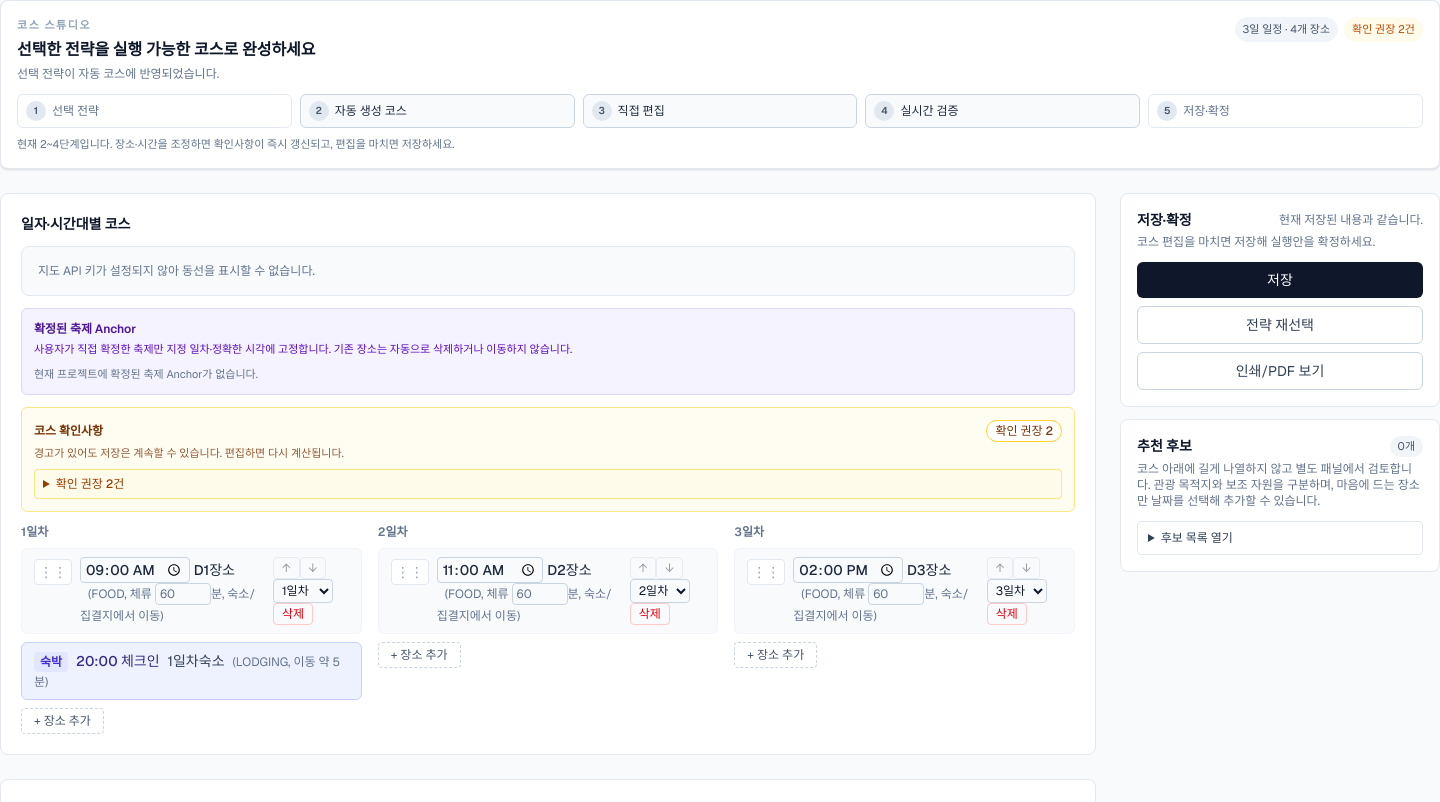
PlanEditor 저장 후 날짜 select 값 유지(회귀) › 저장 후에도 시간 입력값과 lodging 표시가 그대로 유지된다(회귀가 select에만 국한되는지 확인)
The width and height of the screenshot is (1440, 802).
Click the button "저장": (1280, 280) [1137, 262, 1423, 298]
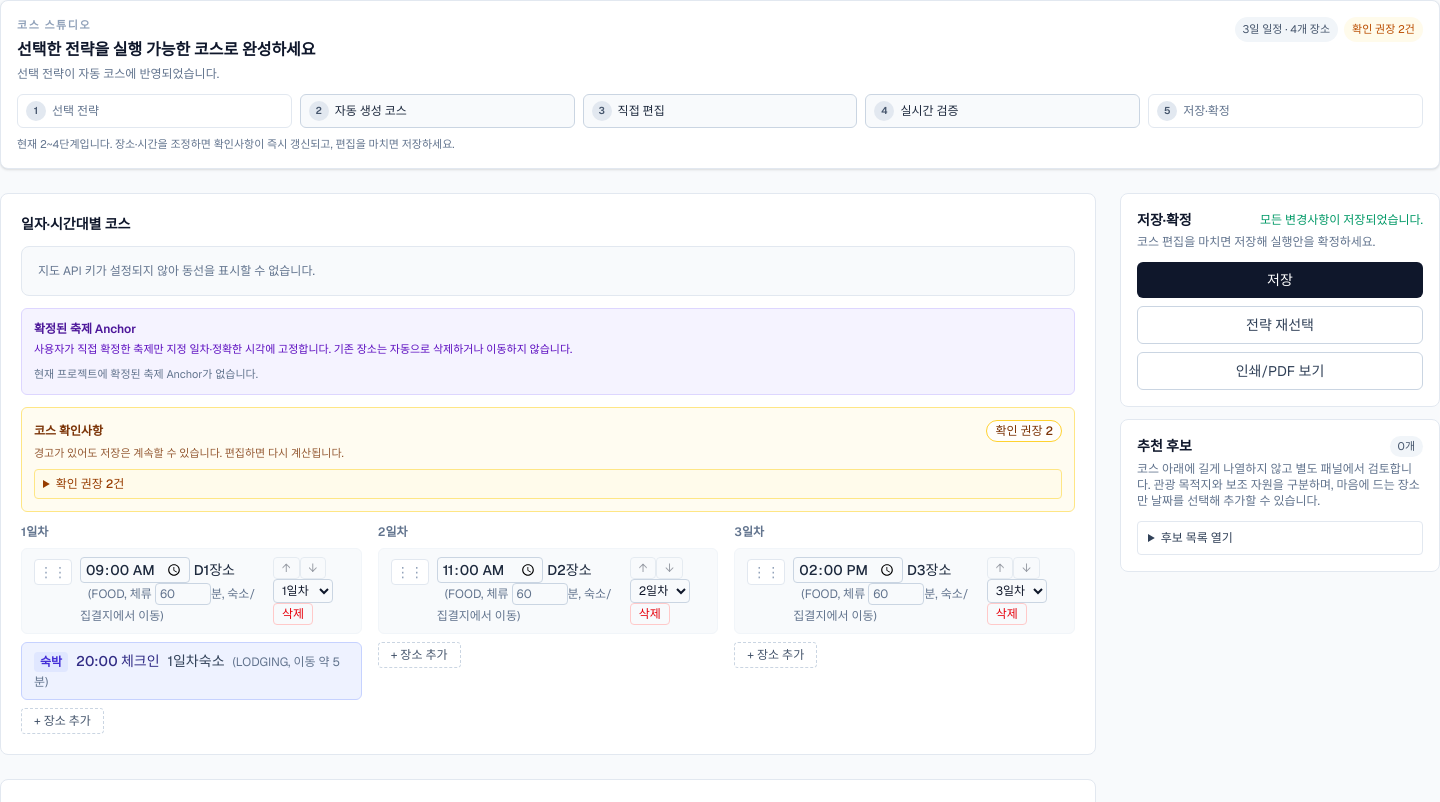
Expected: the text "1일차숙소" is shown, [168, 652, 224, 670]
Now the text "모든 변경사항이 저장되었습니다." is shown, box [1260, 212, 1423, 228]
